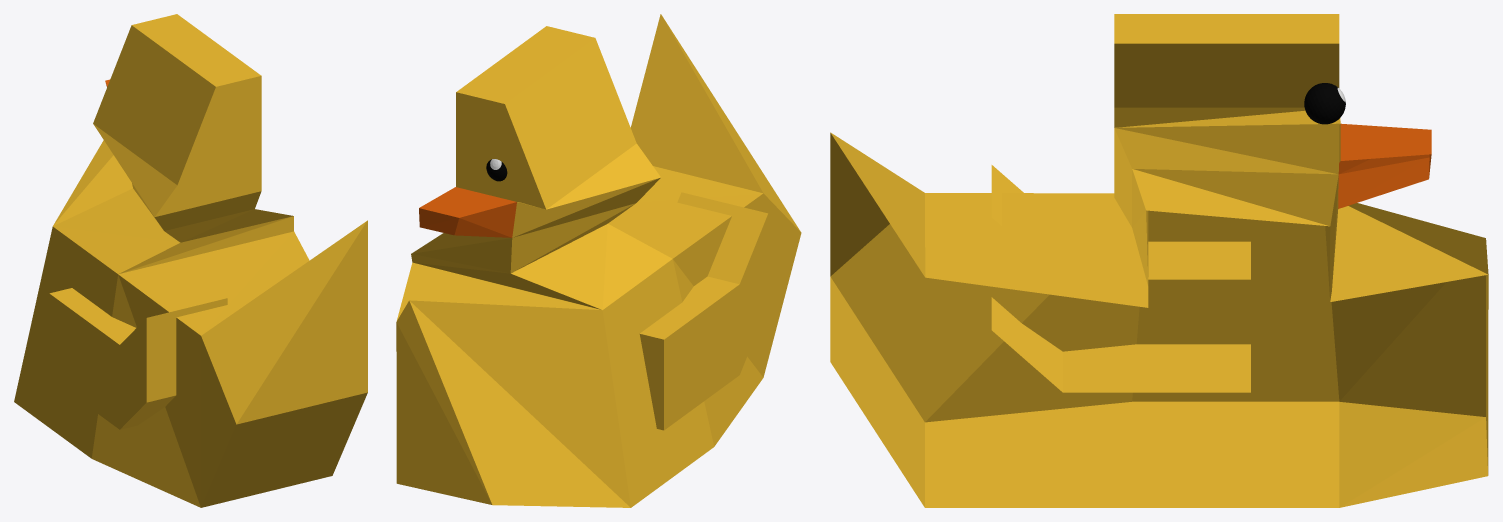
File: rubberduckyblend.glb
3 views of the same model, side by side, from view 1: azimuth 30°, elevation 25°; view 2: azimuth 150°, elevation 25°; view 3: azimuth 270°, elevation 25° (orthographic). The views are drawn at different scales.
Visible parts, largest first — view 1: body; view 2: body, bic; view 3: body, bic, eyes.
Part boxes in pixels (x1=…): body: x1=14, y1=14, x2=367, y2=507; body: x1=396, y1=14, x2=801, y2=507; bic: x1=419, y1=187, x2=516, y2=237; body: x1=830, y1=14, x2=1488, y2=507; bic: x1=1338, y1=123, x2=1431, y2=208; eyes: x1=1304, y1=83, x2=1345, y2=124.
Size of the model in its own units: 12.68 by 20.23 by 25.98.
